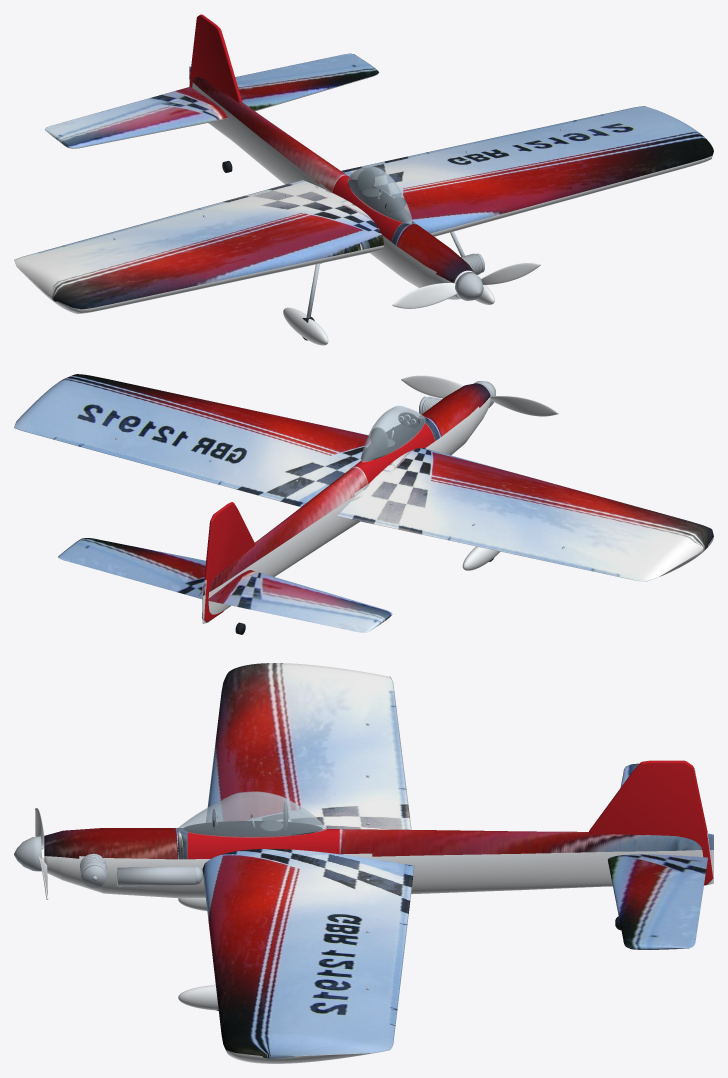
The picture shows the model from 3 angles, top to bottom: view 1: azimuth 30°, elevation 25°; view 2: azimuth 150°, elevation 25°; view 3: azimuth 270°, elevation 25°; orthographic projection. The views are drawn at different scales.
Parts seen in each view (by area): view 1: Wing outboard | 710 mm, Wing inboard | 740 mm, Fuselage | moulded outer envelope, Stabilizer right, Stabilizer left, Vertical fin and rudder, Clear removable canopy, Propeller blade 1, Wheel spat 1, Cockpit inset, Propeller blade -1, Polished spinner; view 2: Wing outboard | 710 mm, Wing inboard | 740 mm, Fuselage | moulded outer envelope, Stabilizer right, Stabilizer left, Vertical fin and rudder, Clear removable canopy, Propeller blade -1, Propeller blade 1, Cockpit inset, Wheel spat 1; view 3: Wing inboard | 740 mm, Wing outboard | 710 mm, Fuselage | moulded outer envelope, Stabilizer left, Vertical fin and rudder, Clear removable canopy, Cockpit inset, Exhaust silencer, Wheel spat -1, Polished spinner.
Part boxes in pixels (<box>): Wing outboard | 710 mm: <box>14,180,383,313</box>; Wing inboard | 740 mm: <box>341,106,713,236</box>; Fuselage | moulded outer envelope: <box>189,66,474,299</box>; Stabilizer right: <box>45,86,227,148</box>; Stabilizer left: <box>235,53,378,111</box>; Vertical fin and rudder: <box>189,14,241,102</box>; Clear removable canopy: <box>347,165,412,224</box>; Propeller blade 1: <box>392,282,457,308</box>; Wheel spat 1: <box>283,307,328,345</box>; Cockpit inset: <box>348,179,410,221</box>; Propeller blade -1: <box>481,262,540,284</box>; Polished spinner: <box>455,272,483,300</box>; Wing outboard | 710 mm: <box>337,448,713,581</box>; Wing inboard | 740 mm: <box>14,374,370,506</box>; Fuselage | moulded outer envelope: <box>202,383,490,623</box>; Stabilizer right: <box>207,570,392,632</box>; Stabilizer left: <box>58,538,205,598</box>; Vertical fin and rudder: <box>202,502,255,622</box>; Clear removable canopy: <box>361,405,425,462</box>; Propeller blade -1: <box>401,375,463,398</box>; Propeller blade 1: <box>490,396,558,416</box>; Cockpit inset: <box>361,418,424,460</box>; Wheel spat 1: <box>462,546,500,570</box>; Wing inboard | 740 mm: <box>202,849,414,1063</box>; Wing outboard | 710 mm: <box>206,663,411,829</box>; Fuselage | moulded outer envelope: <box>44,828,713,897</box>; Stabilizer left: <box>608,854,707,949</box>; Vertical fin and rudder: <box>589,760,713,884</box>; Clear removable canopy: <box>176,791,326,837</box>; Cockpit inset: <box>183,821,322,836</box>; Exhaust silencer: <box>117,866,195,886</box>; Wheel spat -1: <box>178,985,218,1010</box>; Polished spinner: <box>14,836,41,871</box>.
Size of the model in its own units: 1.45 by 0.351 by 1.11.
7 materials, 1 textured.
